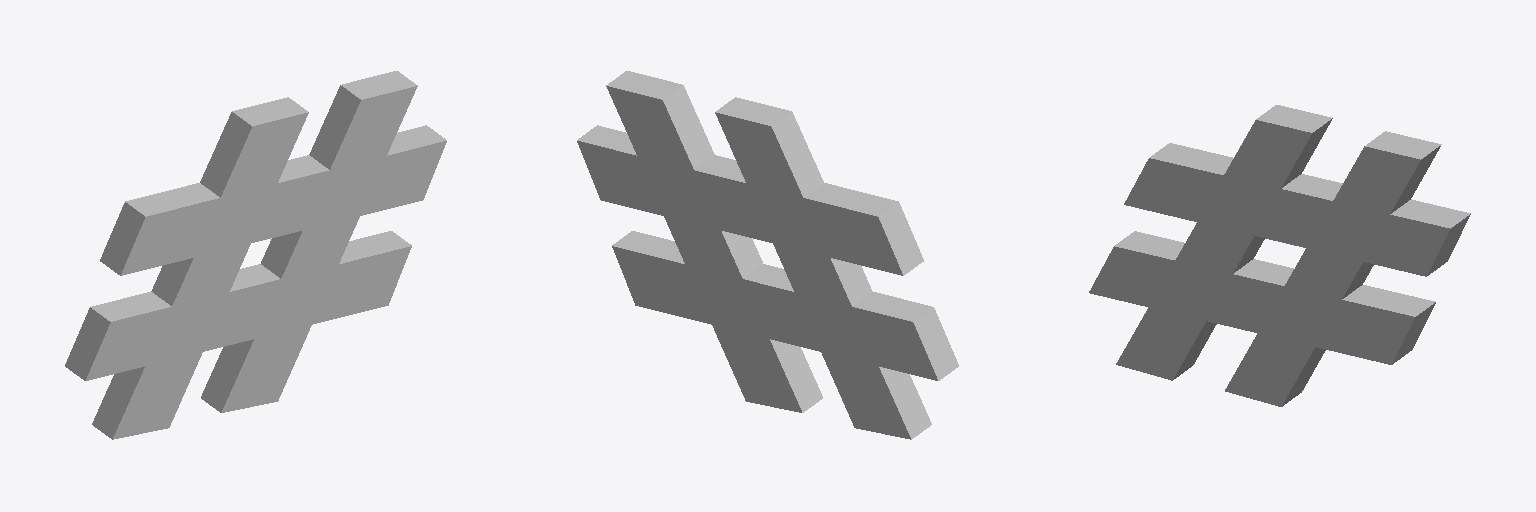
Rendered from sign27.obj.
3 views of the same model, side by side, from view 1: azimuth 30°, elevation 25°; view 2: azimuth 150°, elevation 25°; view 3: azimuth 330°, elevation 25° (orthographic).
Visible parts, largest first — view 1: pCube1, pCube2, pCube4, pCube5; view 2: pCube2, pCube1, pCube4, pCube5; view 3: pCube5, pCube4, pCube2, pCube1.
Part boxes in pixels (x1,y1,x2,y2): pCube1: (92, 97, 308, 439); pCube2: (201, 71, 417, 412); pCube4: (100, 125, 446, 275); pCube5: (65, 231, 411, 380); pCube2: (606, 71, 822, 412); pCube1: (715, 97, 931, 439); pCube4: (577, 125, 923, 275); pCube5: (612, 231, 958, 380); pCube5: (1089, 231, 1435, 364); pCube4: (1124, 143, 1470, 276); pCube2: (1225, 131, 1441, 406); pCube1: (1116, 105, 1332, 380).
Size of the model in its own units: 4.29 by 3.19 by 0.4266.